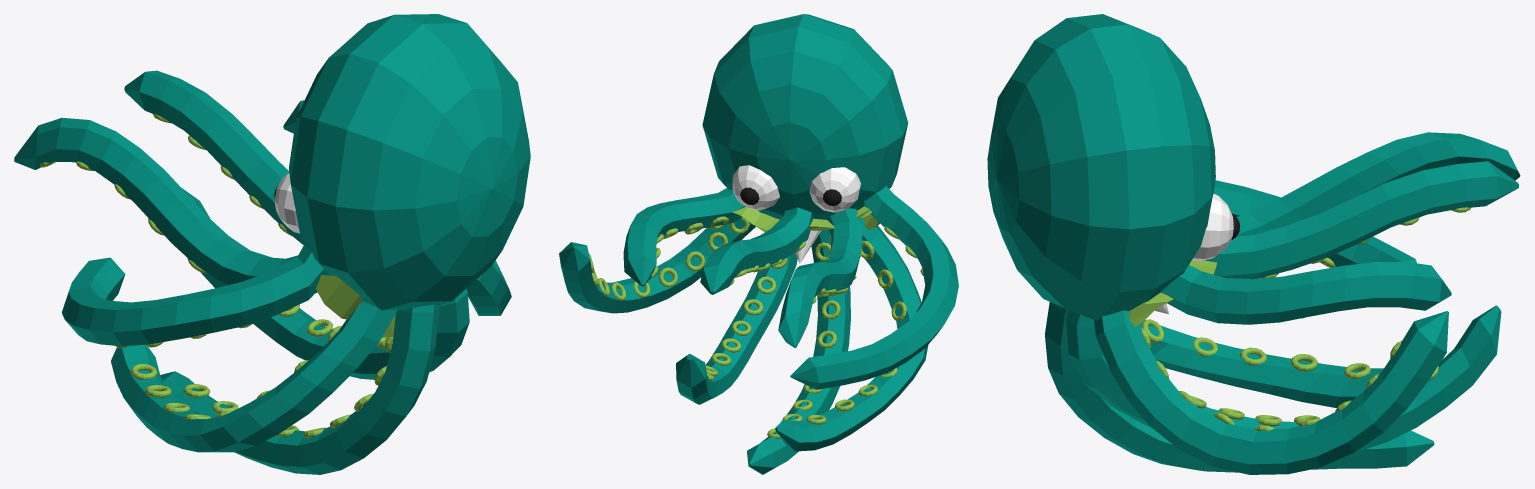
The model's file is kraken.obj.
The picture shows the model from 3 angles, left to right: view 1: azimuth 30°, elevation 25°; view 2: azimuth 150°, elevation 25°; view 3: azimuth 270°, elevation 25°; orthographic projection. The views are drawn at different scales.
Visible parts, largest first — view 1: group922446067, group1425526041, group456617027, group437505111, group1700051380, group1148434959, group2089829235, group1547700302, group1816328149, group422997110; view 2: group922446067, group456617027, group1425526041, group1547700302, group2089829235, group437505111, group132172834, group1700051380, group1148434959, group775036875, group422997110, group1877649509; view 3: group922446067, group1547700302, group1148434959, group132172834, group437505111, group2089829235, group1700051380, group1425526041, group456617027, group775036875, group579681967.
Boxes of the visible parts, x1,y1,x2,y2 form: group922446067: (289,14,530,310); group1425526041: (111,301,397,452); group456617027: (62,245,329,346); group437505111: (14,117,317,293); group1700051380: (160,304,439,474); group1148434959: (124,70,303,245); group2089829235: (181,187,469,379); group1547700302: (466,260,511,315); group1816328149: (316,274,362,319); group422997110: (274,173,299,233); group922446067: (702,14,908,230); group456617027: (790,186,958,389); group1425526041: (775,217,928,451); group1547700302: (559,219,755,313); group2089829235: (676,253,797,404); group437505111: (778,208,862,347); group132172834: (623,188,745,286); group1700051380: (747,229,850,474); group1148434959: (700,207,813,294); group775036875: (732,165,779,210); group422997110: (809,167,860,212); group1877649509: (732,207,779,230); group922446067: (987,14,1215,320); group1547700302: (1094,310,1448,474); group1148434959: (1205,161,1518,279); group132172834: (1160,262,1451,324); group437505111: (1237,132,1520,236); group2089829235: (1066,305,1501,452); group1700051380: (1045,302,1434,472); group1425526041: (1140,320,1383,407); group456617027: (1213,180,1416,266); group775036875: (1191,193,1239,261); group579681967: (1128,292,1173,326).
Size of the model in its own units: 2.23 by 2.35 by 2.32.
